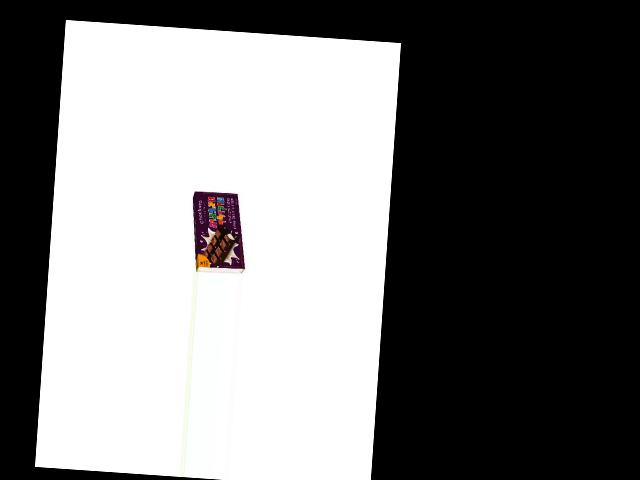chocolate: (187, 185, 246, 275)
